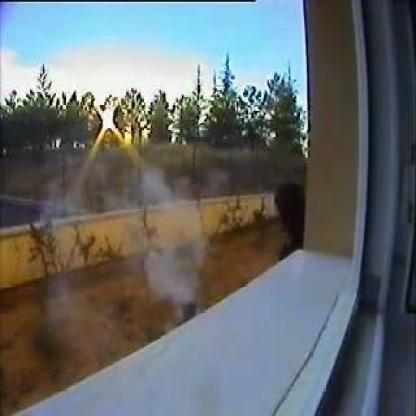-: (142, 225, 197, 305)
